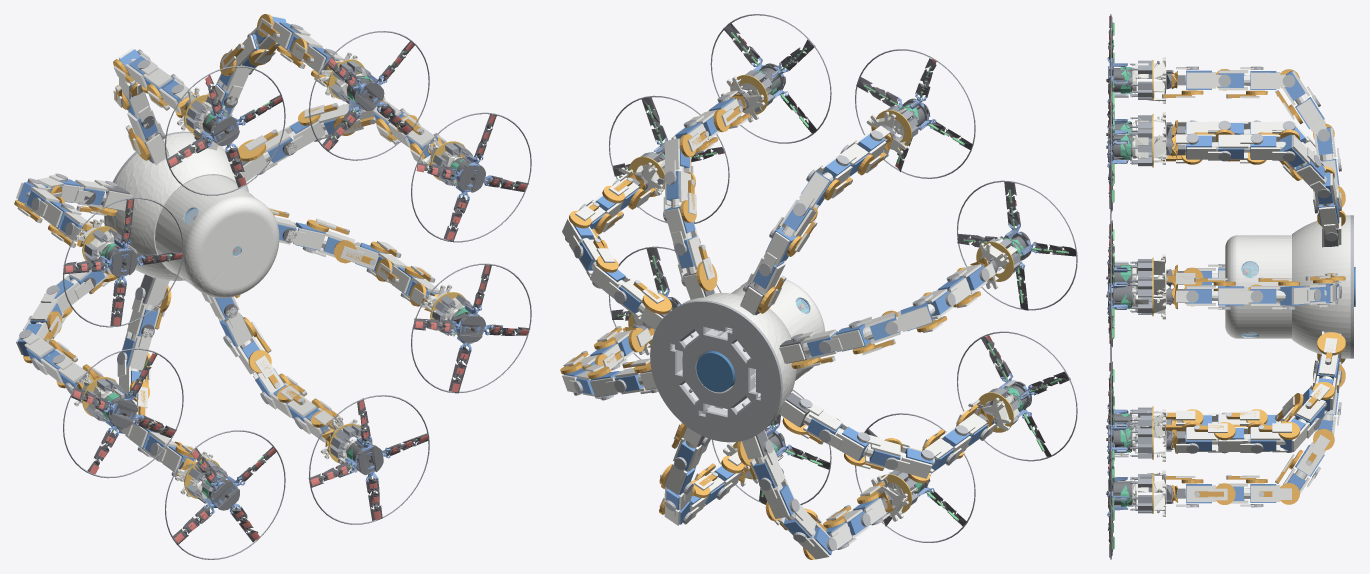
The model's file is cephalo2_s3_flight.glb.
3 renders of one model, left to right at view 1: azimuth 30°, elevation 25°; view 2: azimuth 150°, elevation 25°; view 3: azimuth 270°, elevation 25°, orthographic. The views are drawn at different scales.
Parts seen in each view (by area): view 1: arms and hands|c0, turret shell|shell, arms and hands|c14, arms and hands|c7, arms and hands|c16, arms and hands|c23, arms and hands|c3, arms and hands|c21, arms and hands|c10, arms and hands|c18, arms and hands|c11, arms and hands|c4 (+5 smaller); view 2: arms and hands|c0, body|plate, arms and hands|c7, arms and hands|c14, arms and hands|c3, arms and hands|c6, arms and hands|c11, arms and hands|c23, turret shell|shell, arms and hands|c4, arms and hands|c12, arms and hands|c2 (+8 smaller); view 3: arms and hands|c0, turret shell|shell, arms and hands|c7, arms and hands|c3, arms and hands|c10, arms and hands|c11, arms and hands|c6, arms and hands|c4, arms and hands|c16, arms and hands|c18, arms and hands|c14, arms and hands|c23 (+10 smaller).
Part boxes in pixels (x1=…): arms and hands|c0: x1=16, y1=14, x2=446, y2=481; turret shell|shell: x1=106, y1=133, x2=279, y2=297; arms and hands|c14: x1=63, y1=40, x2=530, y2=544; arms and hands|c7: x1=17, y1=16, x2=438, y2=473; arms and hands|c16: x1=101, y1=75, x2=485, y2=510; arms and hands|c23: x1=63, y1=31, x2=531, y2=559; arms and hands|c3: x1=14, y1=14, x2=426, y2=457; arms and hands|c21: x1=65, y1=42, x2=529, y2=543; arms and hands|c10: x1=84, y1=61, x2=472, y2=503; arms and hands|c18: x1=99, y1=74, x2=493, y2=514; arms and hands|c11: x1=74, y1=52, x2=466, y2=501; arms and hands|c4: x1=23, y1=22, x2=435, y2=459; arms and hands|c0: x1=562, y1=90, x2=995, y2=559; body|plate: x1=650, y1=300, x2=782, y2=442; arms and hands|c7: x1=564, y1=97, x2=987, y2=554; arms and hands|c14: x1=611, y1=23, x2=1077, y2=526; arms and hands|c3: x1=560, y1=109, x2=972, y2=559; arms and hands|c6: x1=565, y1=94, x2=989, y2=550; arms and hands|c11: x1=619, y1=76, x2=1019, y2=521; arms and hands|c23: x1=609, y1=14, x2=1077, y2=542; turret shell|shell: x1=672, y1=277, x2=824, y2=428; arms and hands|c4: x1=568, y1=106, x2=981, y2=531; arms and hands|c12: x1=628, y1=75, x2=1013, y2=513; arms and hands|c2: x1=562, y1=110, x2=971, y2=556; arms and hands|c0: x1=1176, y1=67, x2=1341, y2=506; turret shell|shell: x1=1225, y1=215, x2=1350, y2=358; arms and hands|c7: x1=1186, y1=70, x2=1339, y2=503; arms and hands|c3: x1=1181, y1=69, x2=1345, y2=504; arms and hands|c10: x1=1128, y1=60, x2=1154, y2=513; arms and hands|c11: x1=1132, y1=57, x2=1165, y2=516; arms and hands|c6: x1=1186, y1=66, x2=1341, y2=507; arms and hands|c4: x1=1163, y1=91, x2=1334, y2=497; arms and hands|c16: x1=1108, y1=66, x2=1131, y2=507; arms and hands|c18: x1=1107, y1=57, x2=1128, y2=516; arms and hands|c14: x1=1108, y1=16, x2=1114, y2=557; arms and hands|c23: x1=1110, y1=14, x2=1111, y2=559.
Size of the model in its own units: 0.8962 by 0.8962 by 0.4341.
